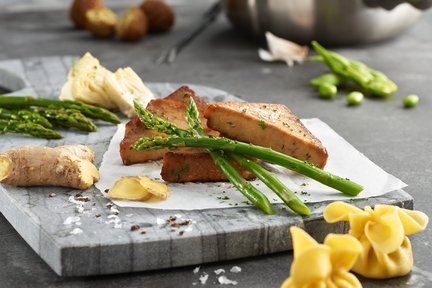soup: (119, 84, 334, 215)
